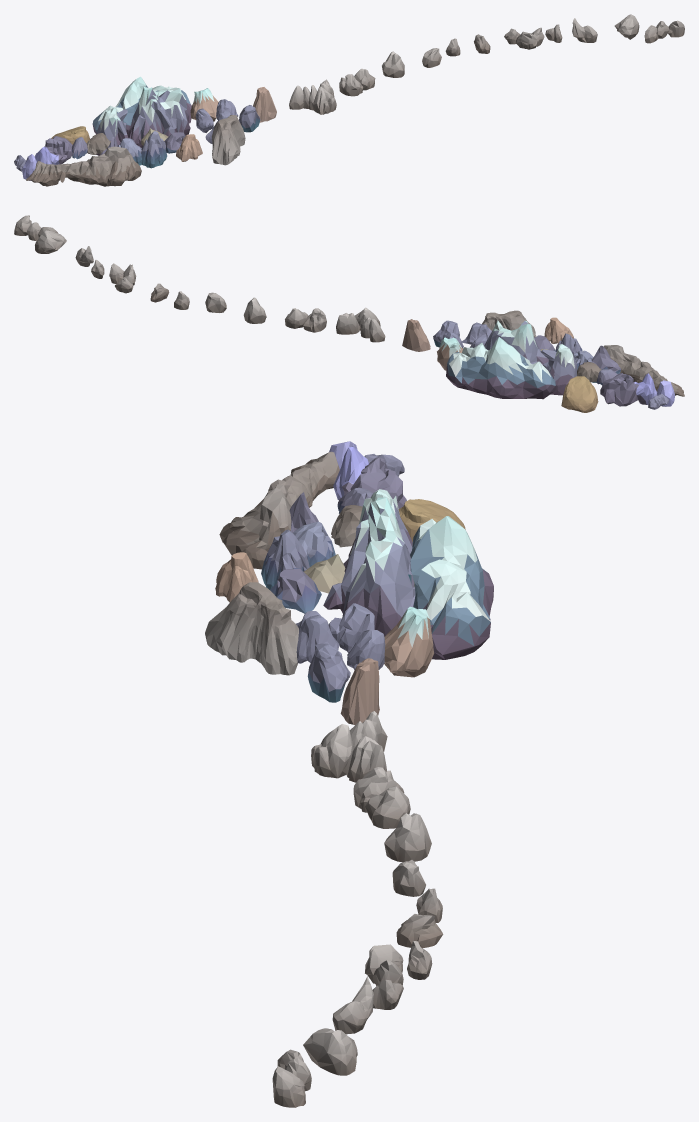
Rendered from Mountains_01.fbx.
3 renders of one model, top to bottom at view 1: azimuth 30°, elevation 25°; view 2: azimuth 150°, elevation 25°; view 3: azimuth 270°, elevation 25°, orthographic. The views are drawn at different scales.
Visible parts, largest first — view 1: Mountains_01; view 2: Mountains_01; view 3: Mountains_01.
Boxes of the visible parts, left/top/right/bottom form: Mountains_01: left=14, top=14, right=684, bottom=186; Mountains_01: left=14, top=215, right=684, bottom=412; Mountains_01: left=205, top=441, right=493, bottom=1107.
Bounding box in the file's own units: 82.42 × 6.94 × 15.87.
1 material, 1 textured.
